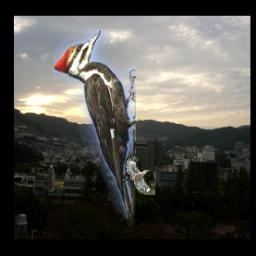Woodpecker: (53, 30, 136, 228), (124, 155, 156, 195)
